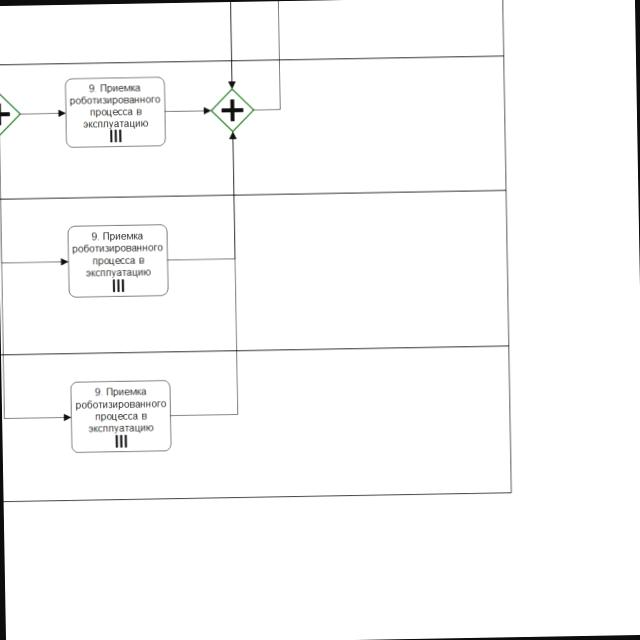arrow: (164, 132, 243, 424), (0, 134, 70, 426), (166, 103, 210, 119), (20, 106, 66, 120)
diamond: (212, 89, 254, 131)
rectangle: (71, 380, 171, 453), (68, 225, 168, 297), (65, 77, 165, 147)
